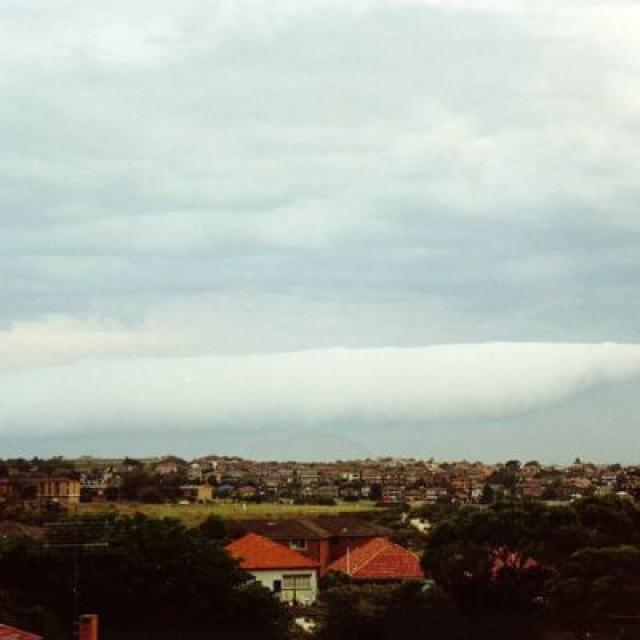Sc: (1, 20, 640, 428)
